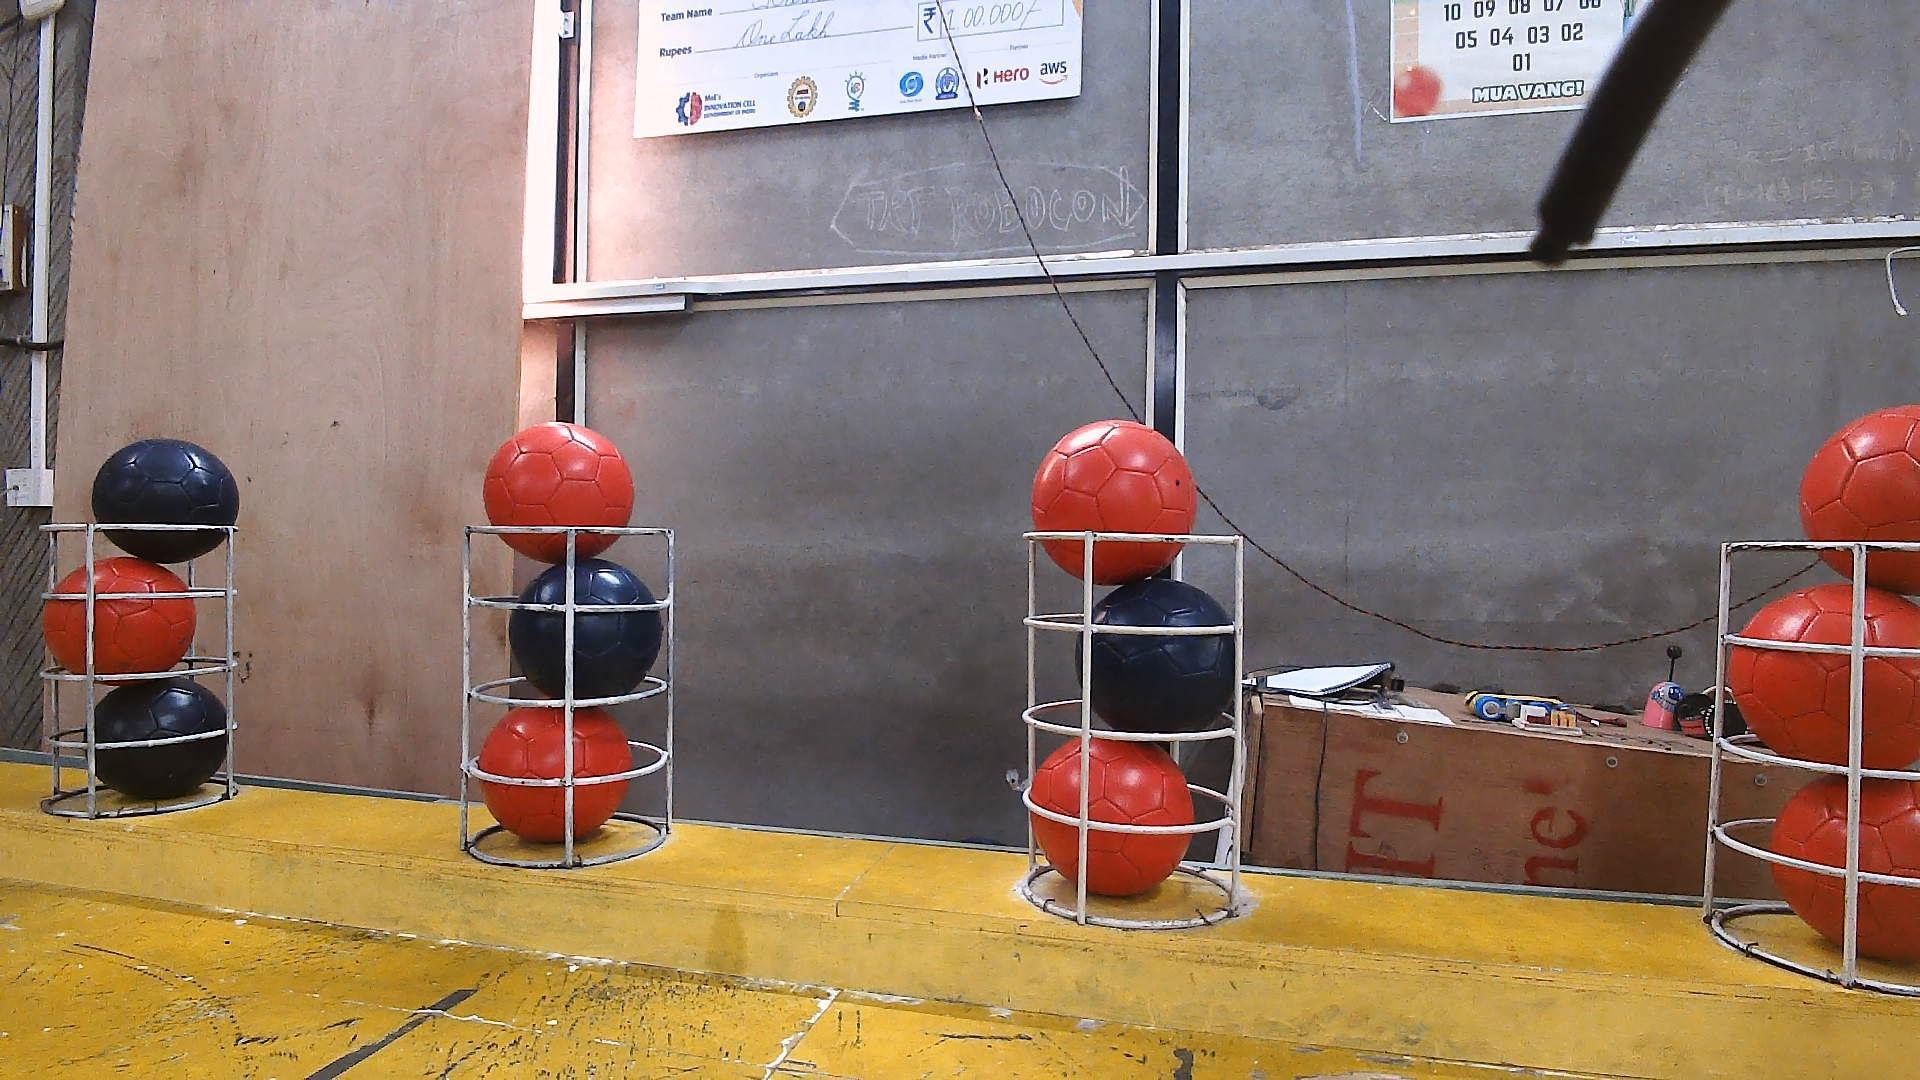dhoka: (1072, 578, 1234, 736), (512, 558, 661, 700), (94, 438, 244, 564), (90, 679, 228, 799)
laale: (1725, 585, 1920, 773), (1770, 777, 1920, 964), (1029, 425, 1197, 587), (1027, 738, 1196, 897), (1800, 405, 1920, 596), (483, 426, 637, 571), (480, 705, 634, 844), (41, 555, 199, 675)
